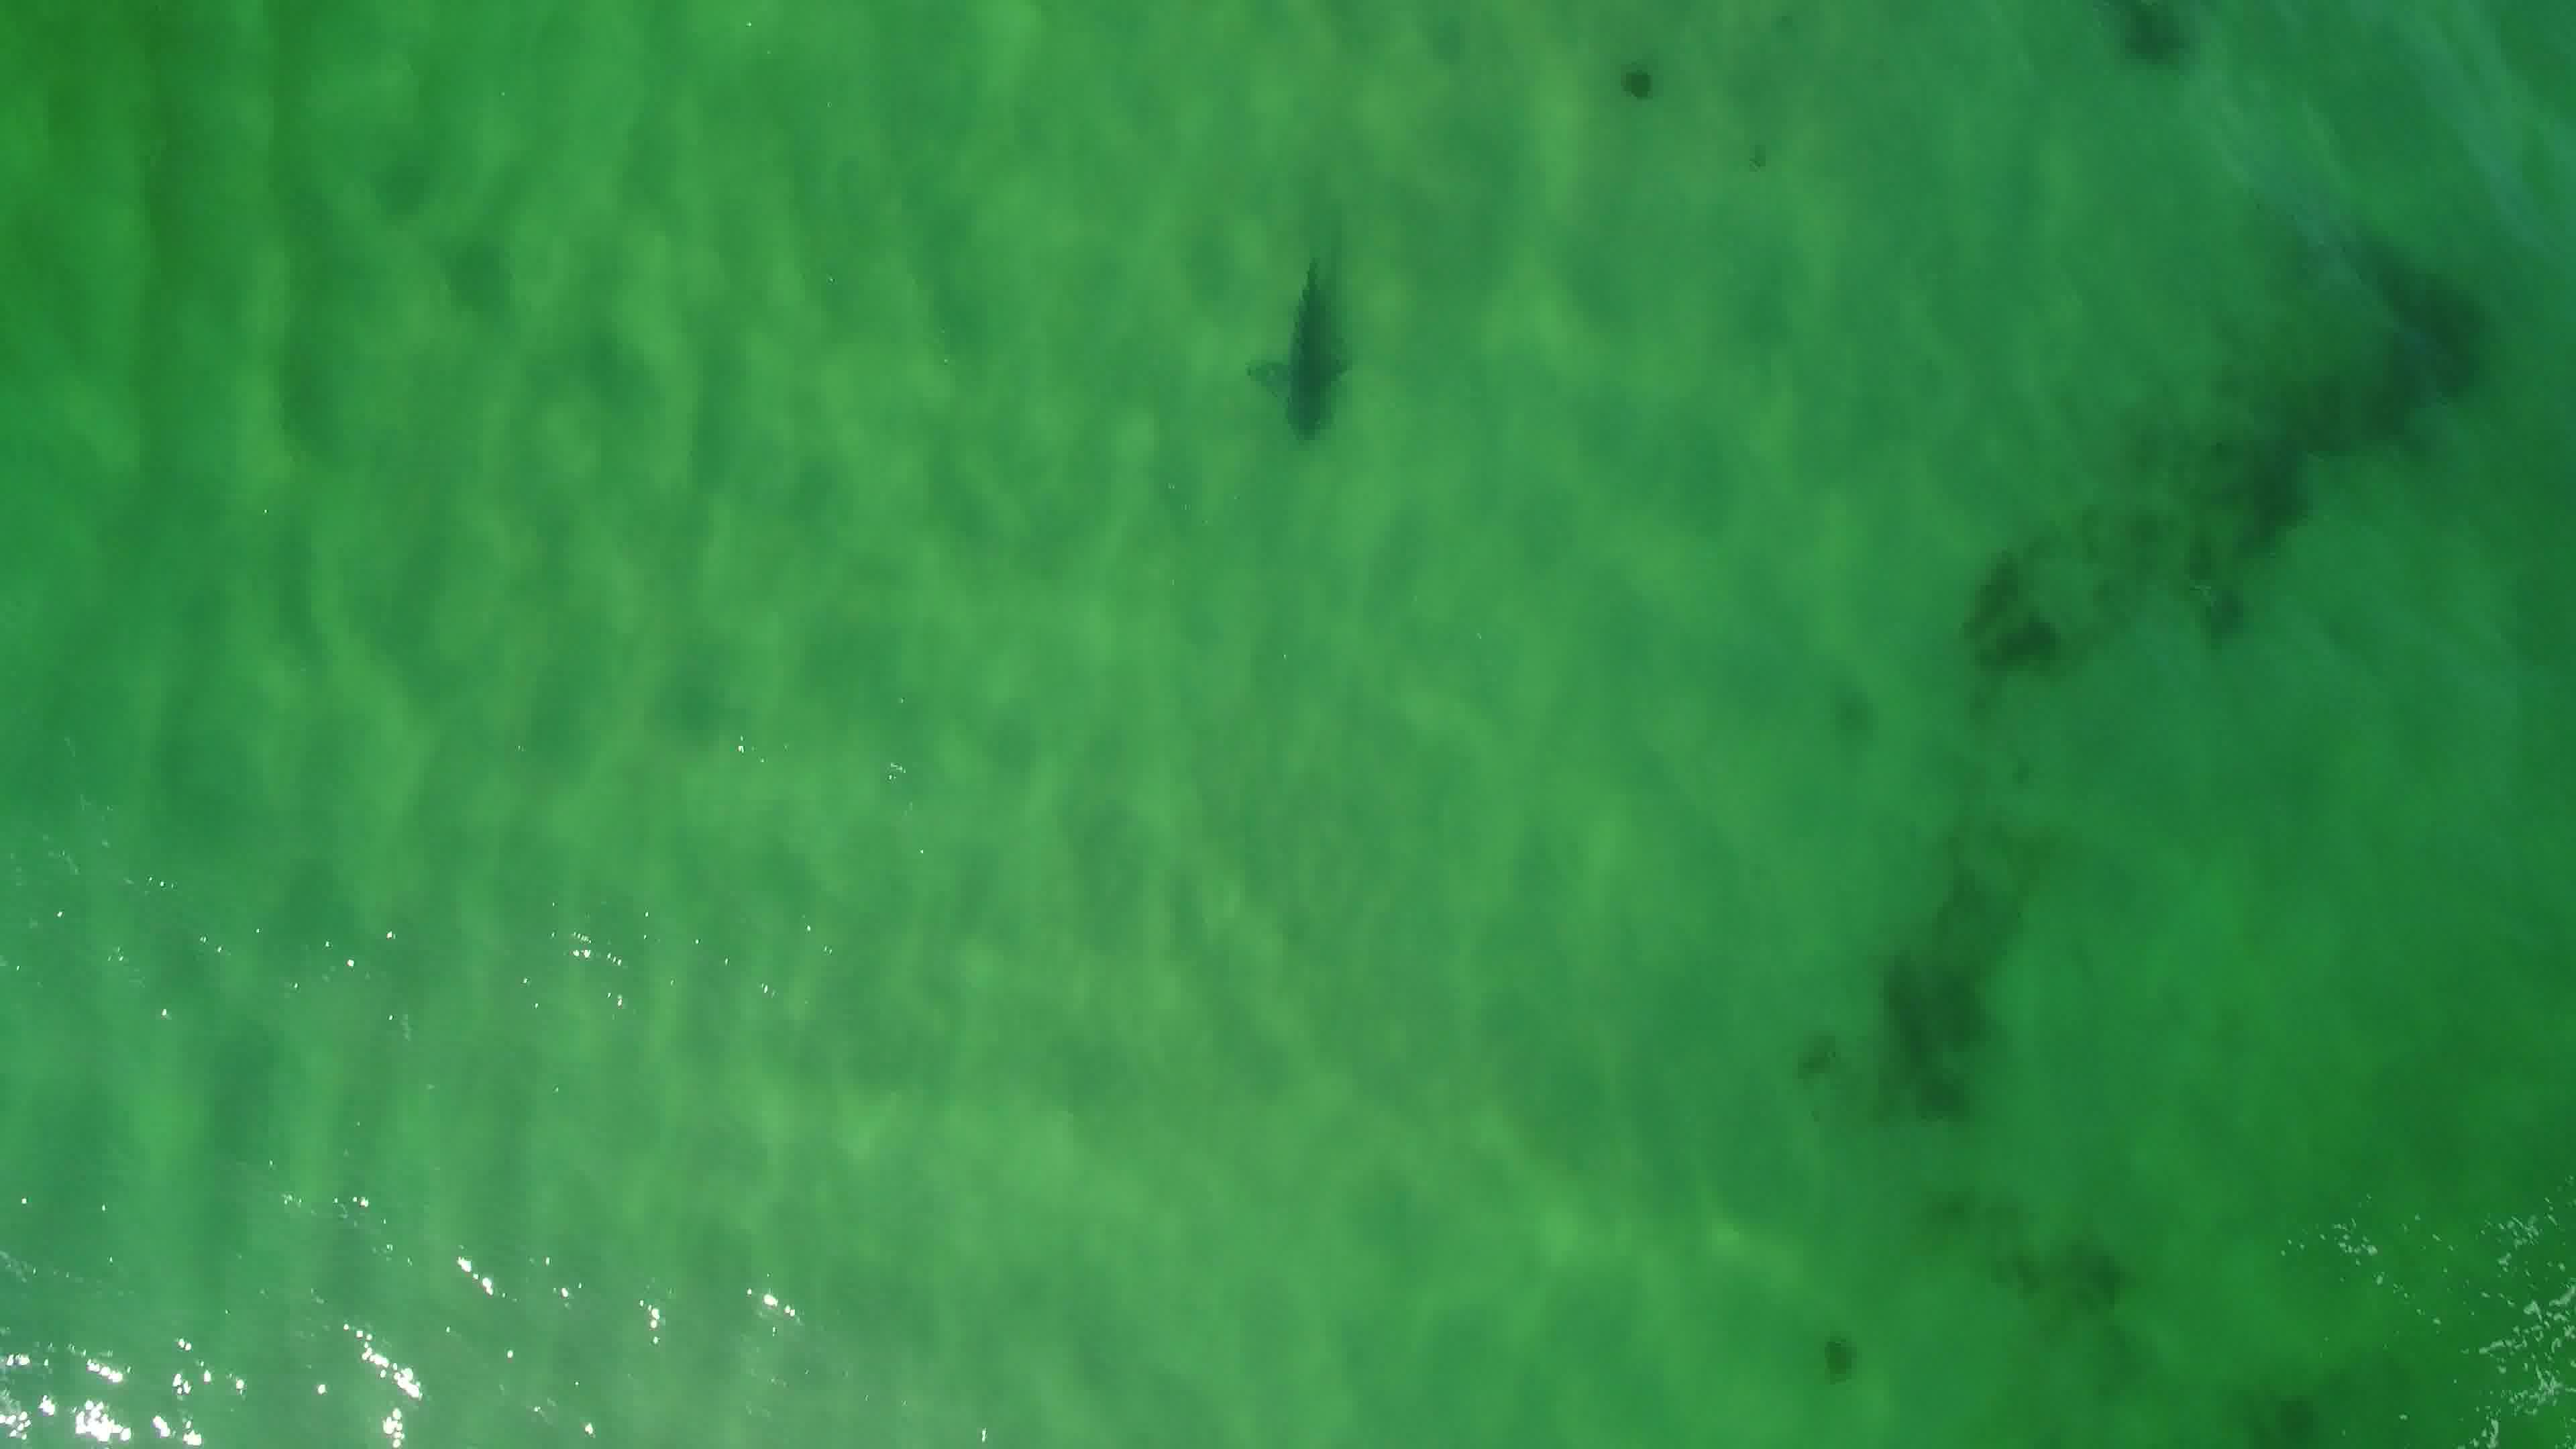shark: (1240, 253, 1352, 439)
